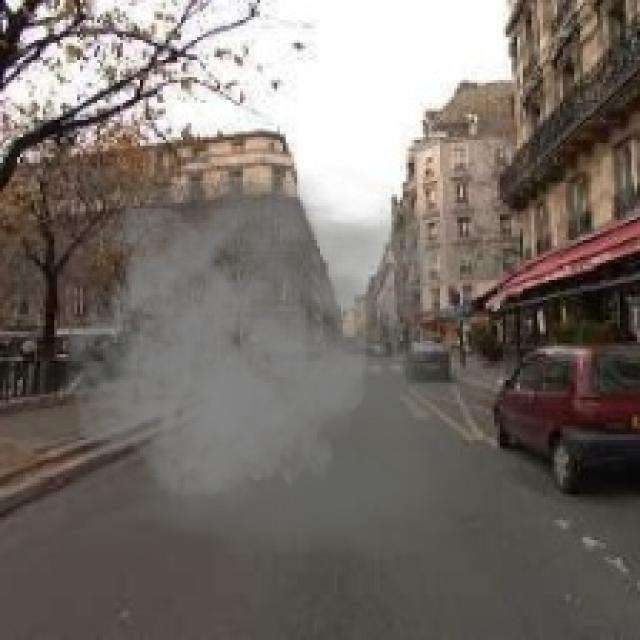Smoke: (54, 165, 480, 560)
